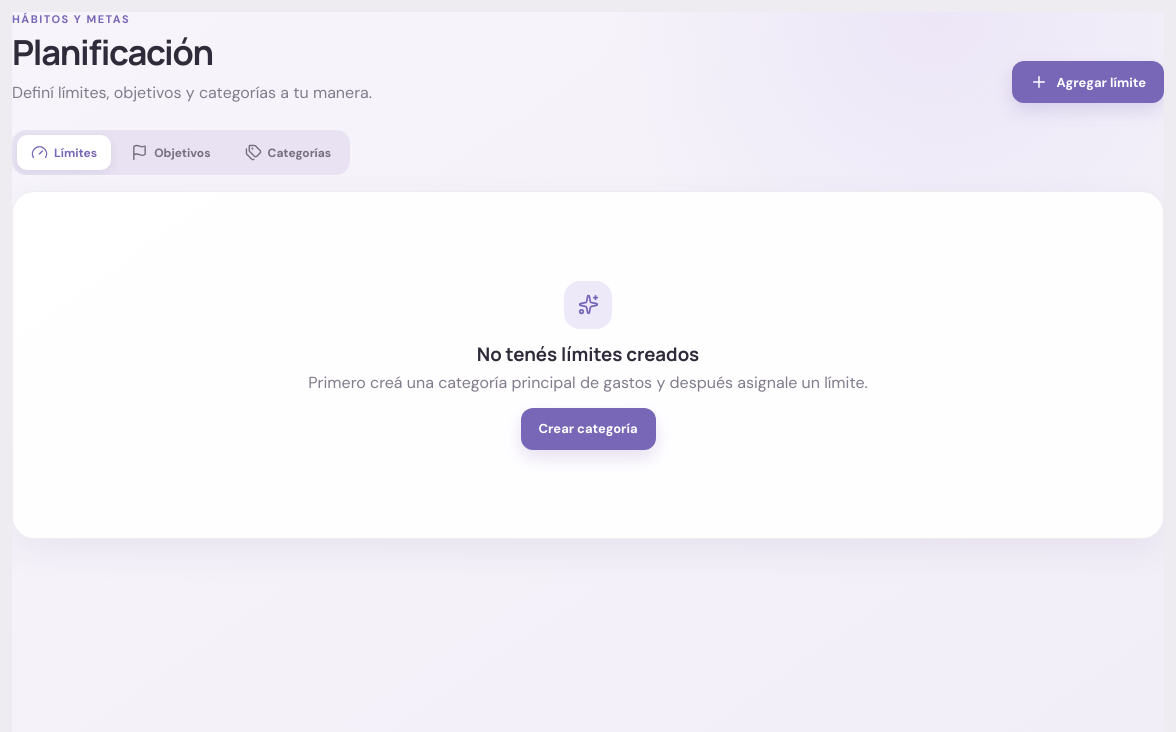
it: category hierarchy planning UI › never leaves planning tabs blank after their last item is deleted
This screenshot has width=1176, height=732.
Expected: the heading "No tenés límites creados" is shown, [477,340,699,366]
Click the button "Objetivos": (171, 152) [117,135,224,170]
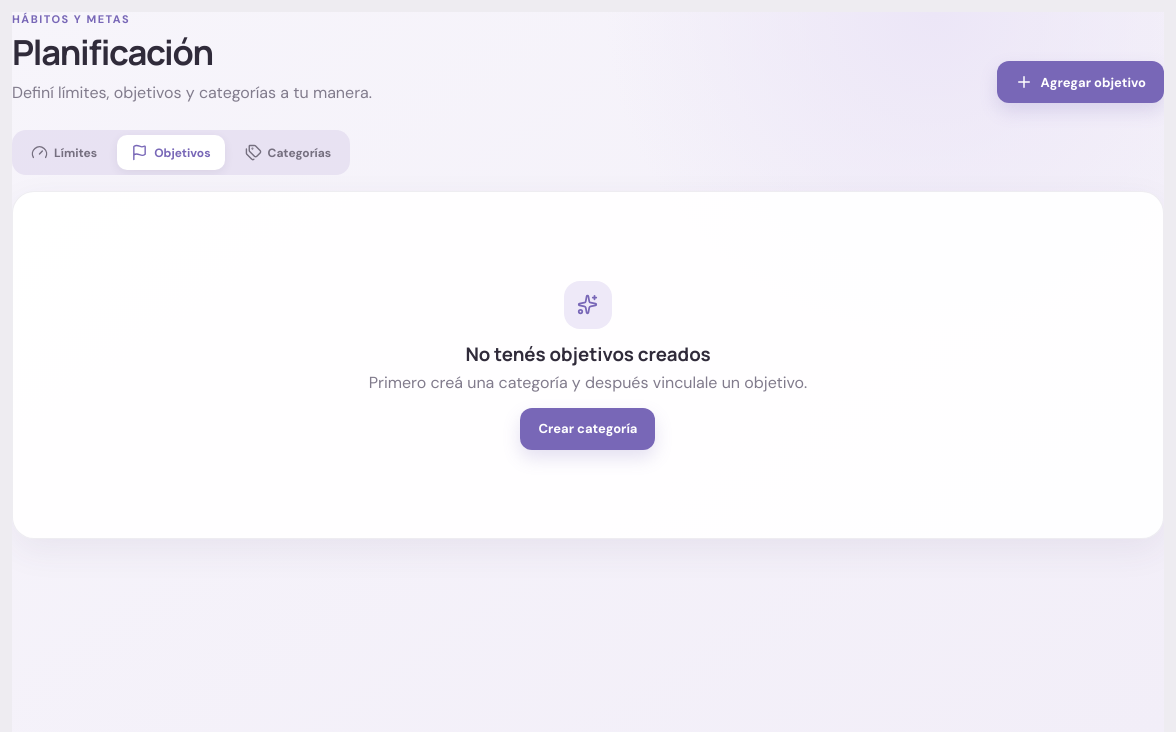
Now the heading "No tenés objetivos creados" is shown, box [465,340,711,366]
Click the button "Categorías": (288, 152) [230,135,345,170]
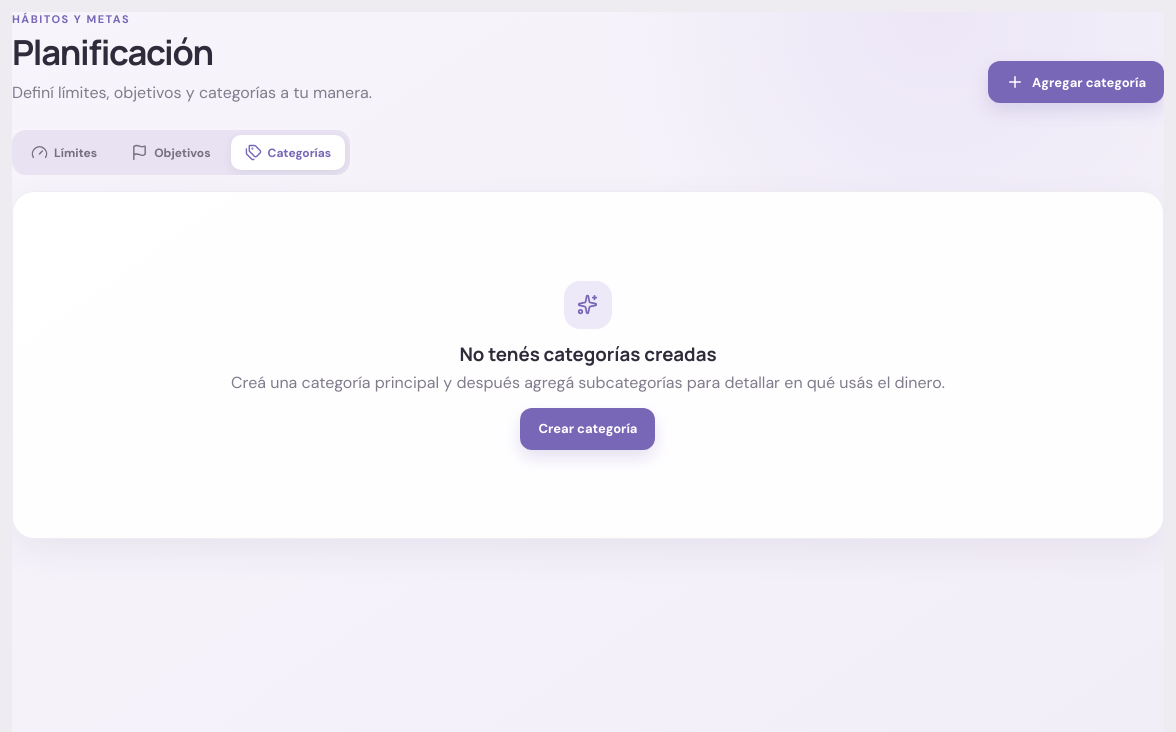
Now the heading "No tenés categorías creadas" is shown, box [459,340,716,366]
